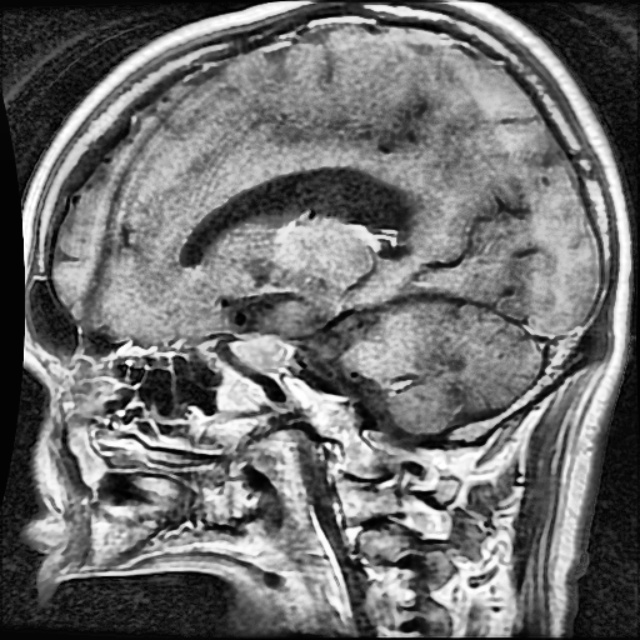Pituitary: (228, 332, 287, 374)
